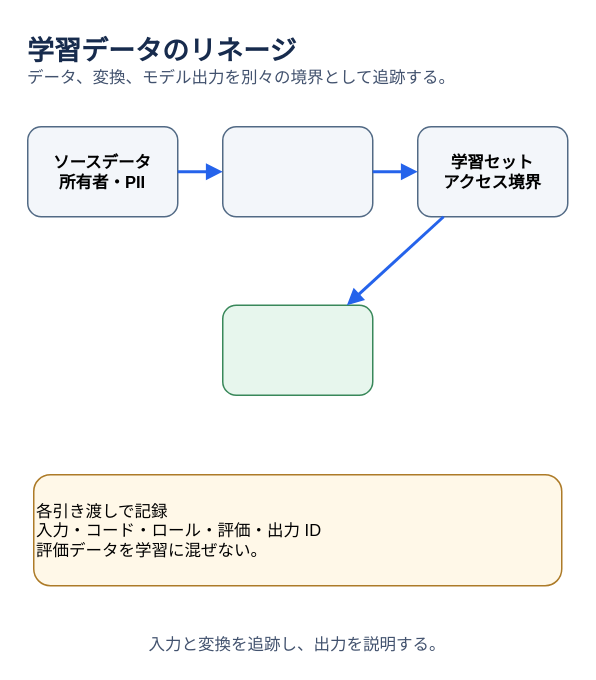
Image size: 596x680. Some labels were removed from this diagram. Here are the shapes that lost their labels. From the top down, the centre of each, then its label:
At (297,171): "変換 コード + データセット".
At (297,349): "モデルアーティファクト パラメータ + 環境".
